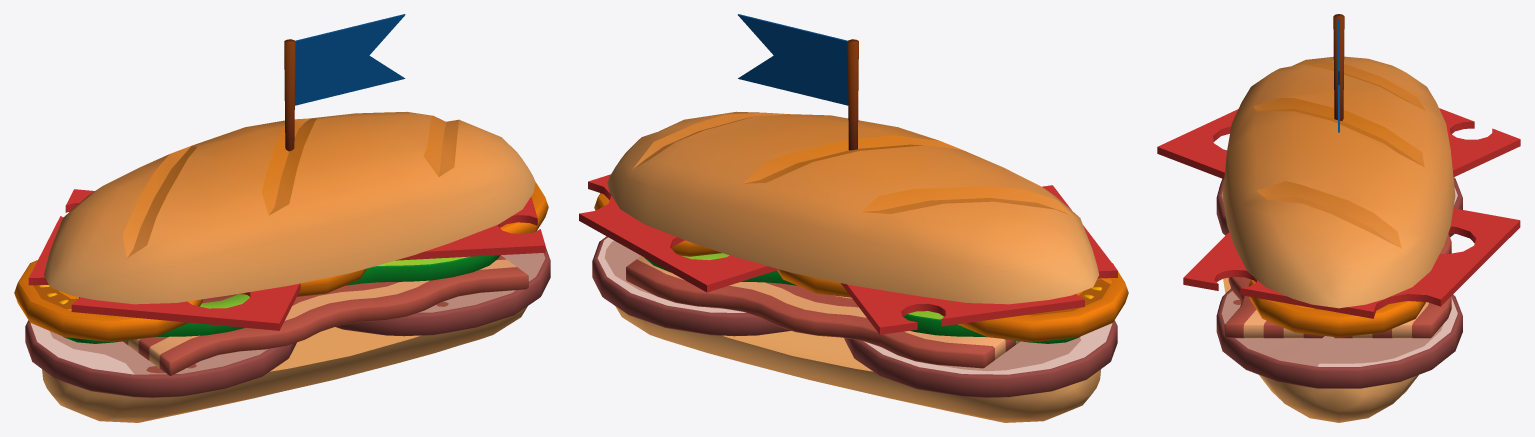
Rendered from Sandwich_02.fbx.
3 views of the same model, side by side, from view 1: azimuth 30°, elevation 25°; view 2: azimuth 150°, elevation 25°; view 3: azimuth 270°, elevation 25° (orthographic). The views are drawn at different scales.
Parts seen in each view (by area): view 1: Sandwich_02; view 2: Sandwich_02; view 3: Sandwich_02.
Part boxes in pixels (bbox=[...]): Sandwich_02: bbox=[14, 14, 550, 422]; Sandwich_02: bbox=[579, 14, 1128, 422]; Sandwich_02: bbox=[1157, 14, 1520, 422].
Bounding box in the file's own units: 183 × 117 × 113.
